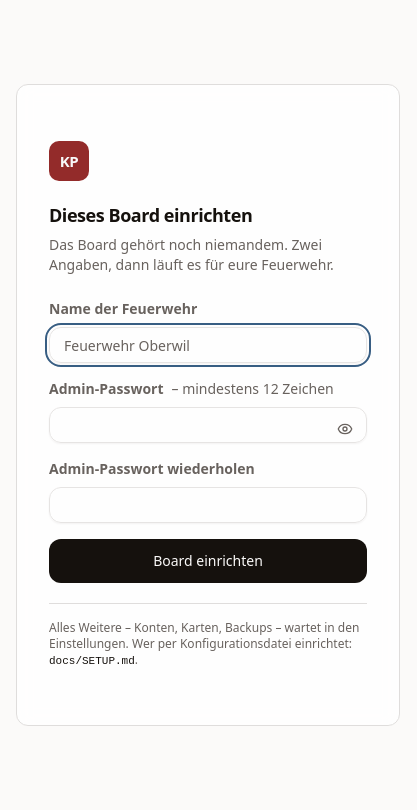
Test case: SetupPage › shows the Einrichtungscode field when a claim is refused for the lack of one
The image size is (417, 810).
Step 1. Type "Feuerwehr Testwil" into the field labelled "Name der Feuerwehr" → (208, 345), box [49, 327, 367, 363]
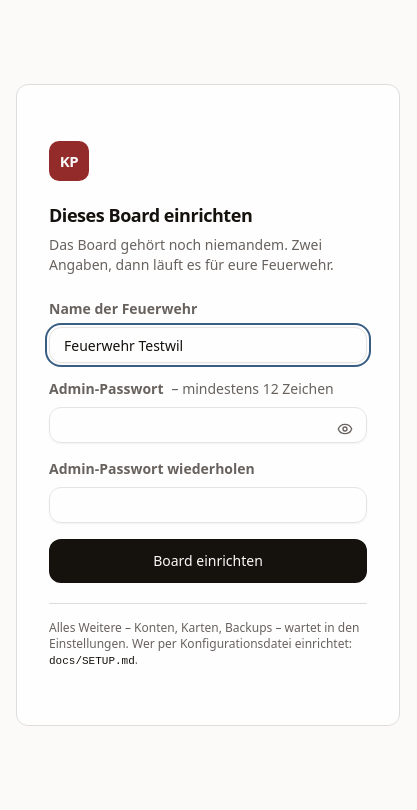
Step 2. Type "korrekt-pferd-batterie" into the password field labelled "Admin-Passwort – mindestens 12 Zeichen" → (208, 425), box [49, 407, 367, 443]
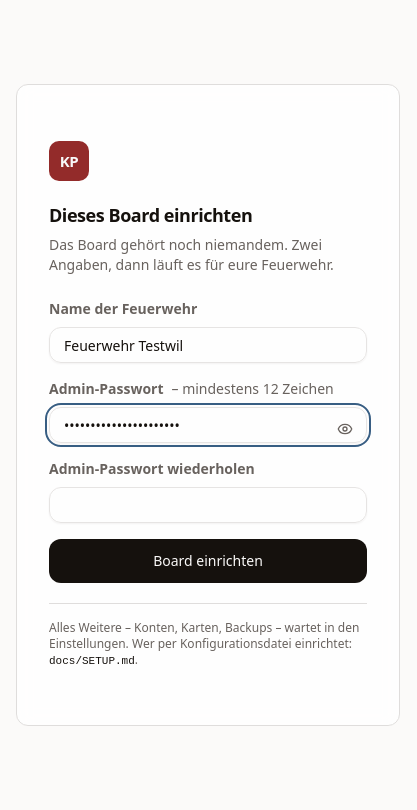
Step 3. Type "korrekt-pferd-batterie" into the password field labelled "Admin-Passwort wiederholen" → (208, 505), box [49, 487, 367, 523]
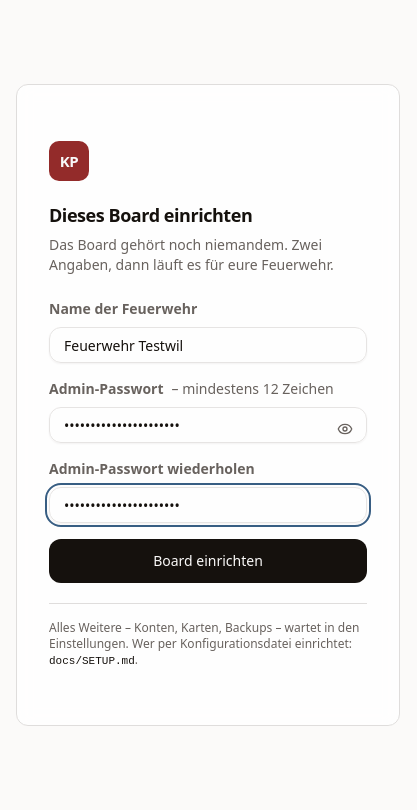
Step 4. Click the button "Board einrichten" → (208, 561), box [49, 539, 367, 583]
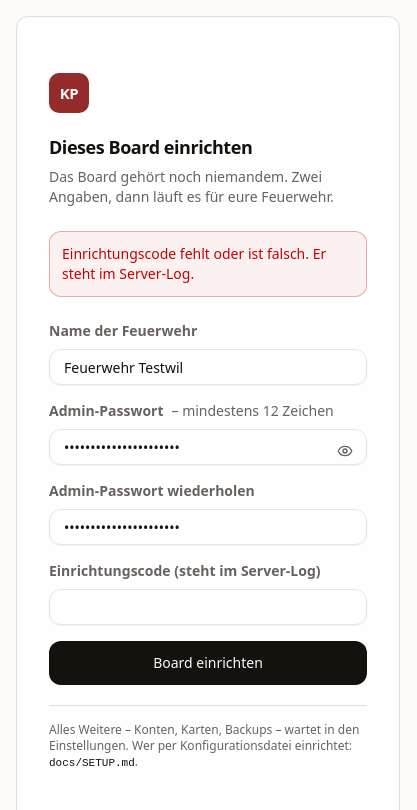
Check: the text "Einrichtungscode fehlt oder ist falsch. Er steht im Server-Log." is shown, box [62, 244, 354, 284]
Check: the field labelled "Einrichtungscode (steht im Server-Log)" is shown, box [49, 589, 367, 625]
